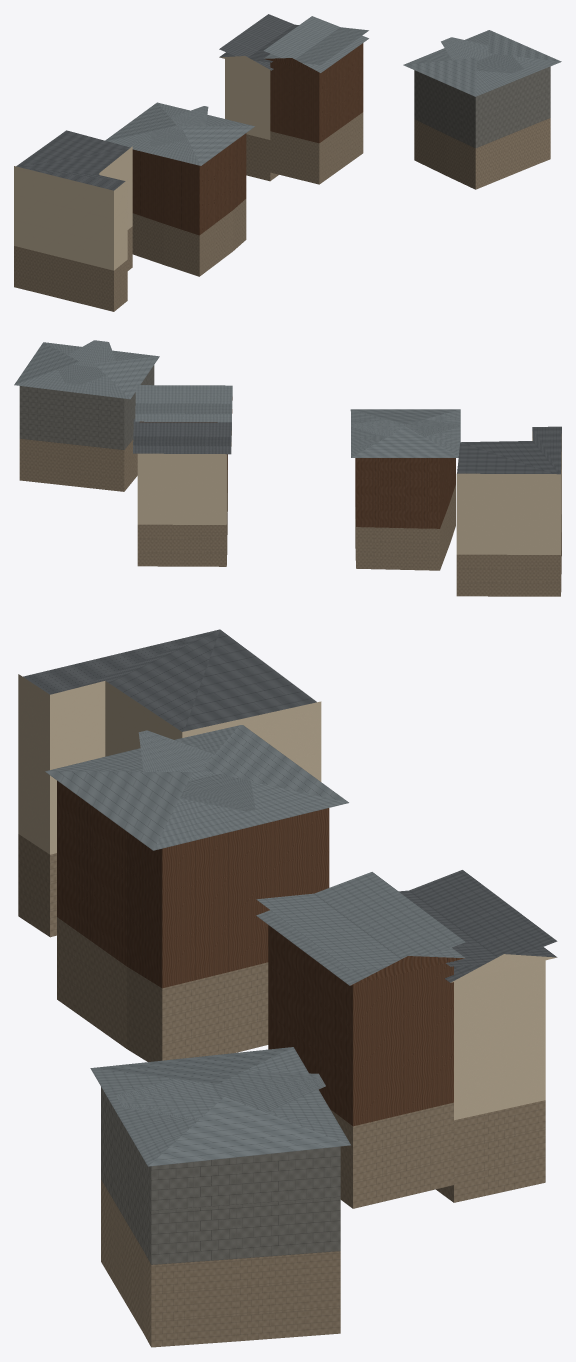
File: bld_c23_30_396.gltf
The picture shows the model from 3 angles, top to bottom: view 1: azimuth 30°, elevation 25°; view 2: azimuth 150°, elevation 25°; view 3: azimuth 270°, elevation 25°; orthographic projection. The views are drawn at different scales.
Visible parts, largest first — view 1: bld_c23_30_396; view 2: bld_c23_30_396; view 3: bld_c23_30_396.
Boxes of the visible parts, bbox=[...] form: bld_c23_30_396: bbox=[14, 14, 561, 311]; bld_c23_30_396: bbox=[14, 340, 561, 596]; bld_c23_30_396: bbox=[18, 629, 557, 1347].
Size of the model in its own units: 68.52 by 17.1 by 30.19.
8 materials, 8 textured.
